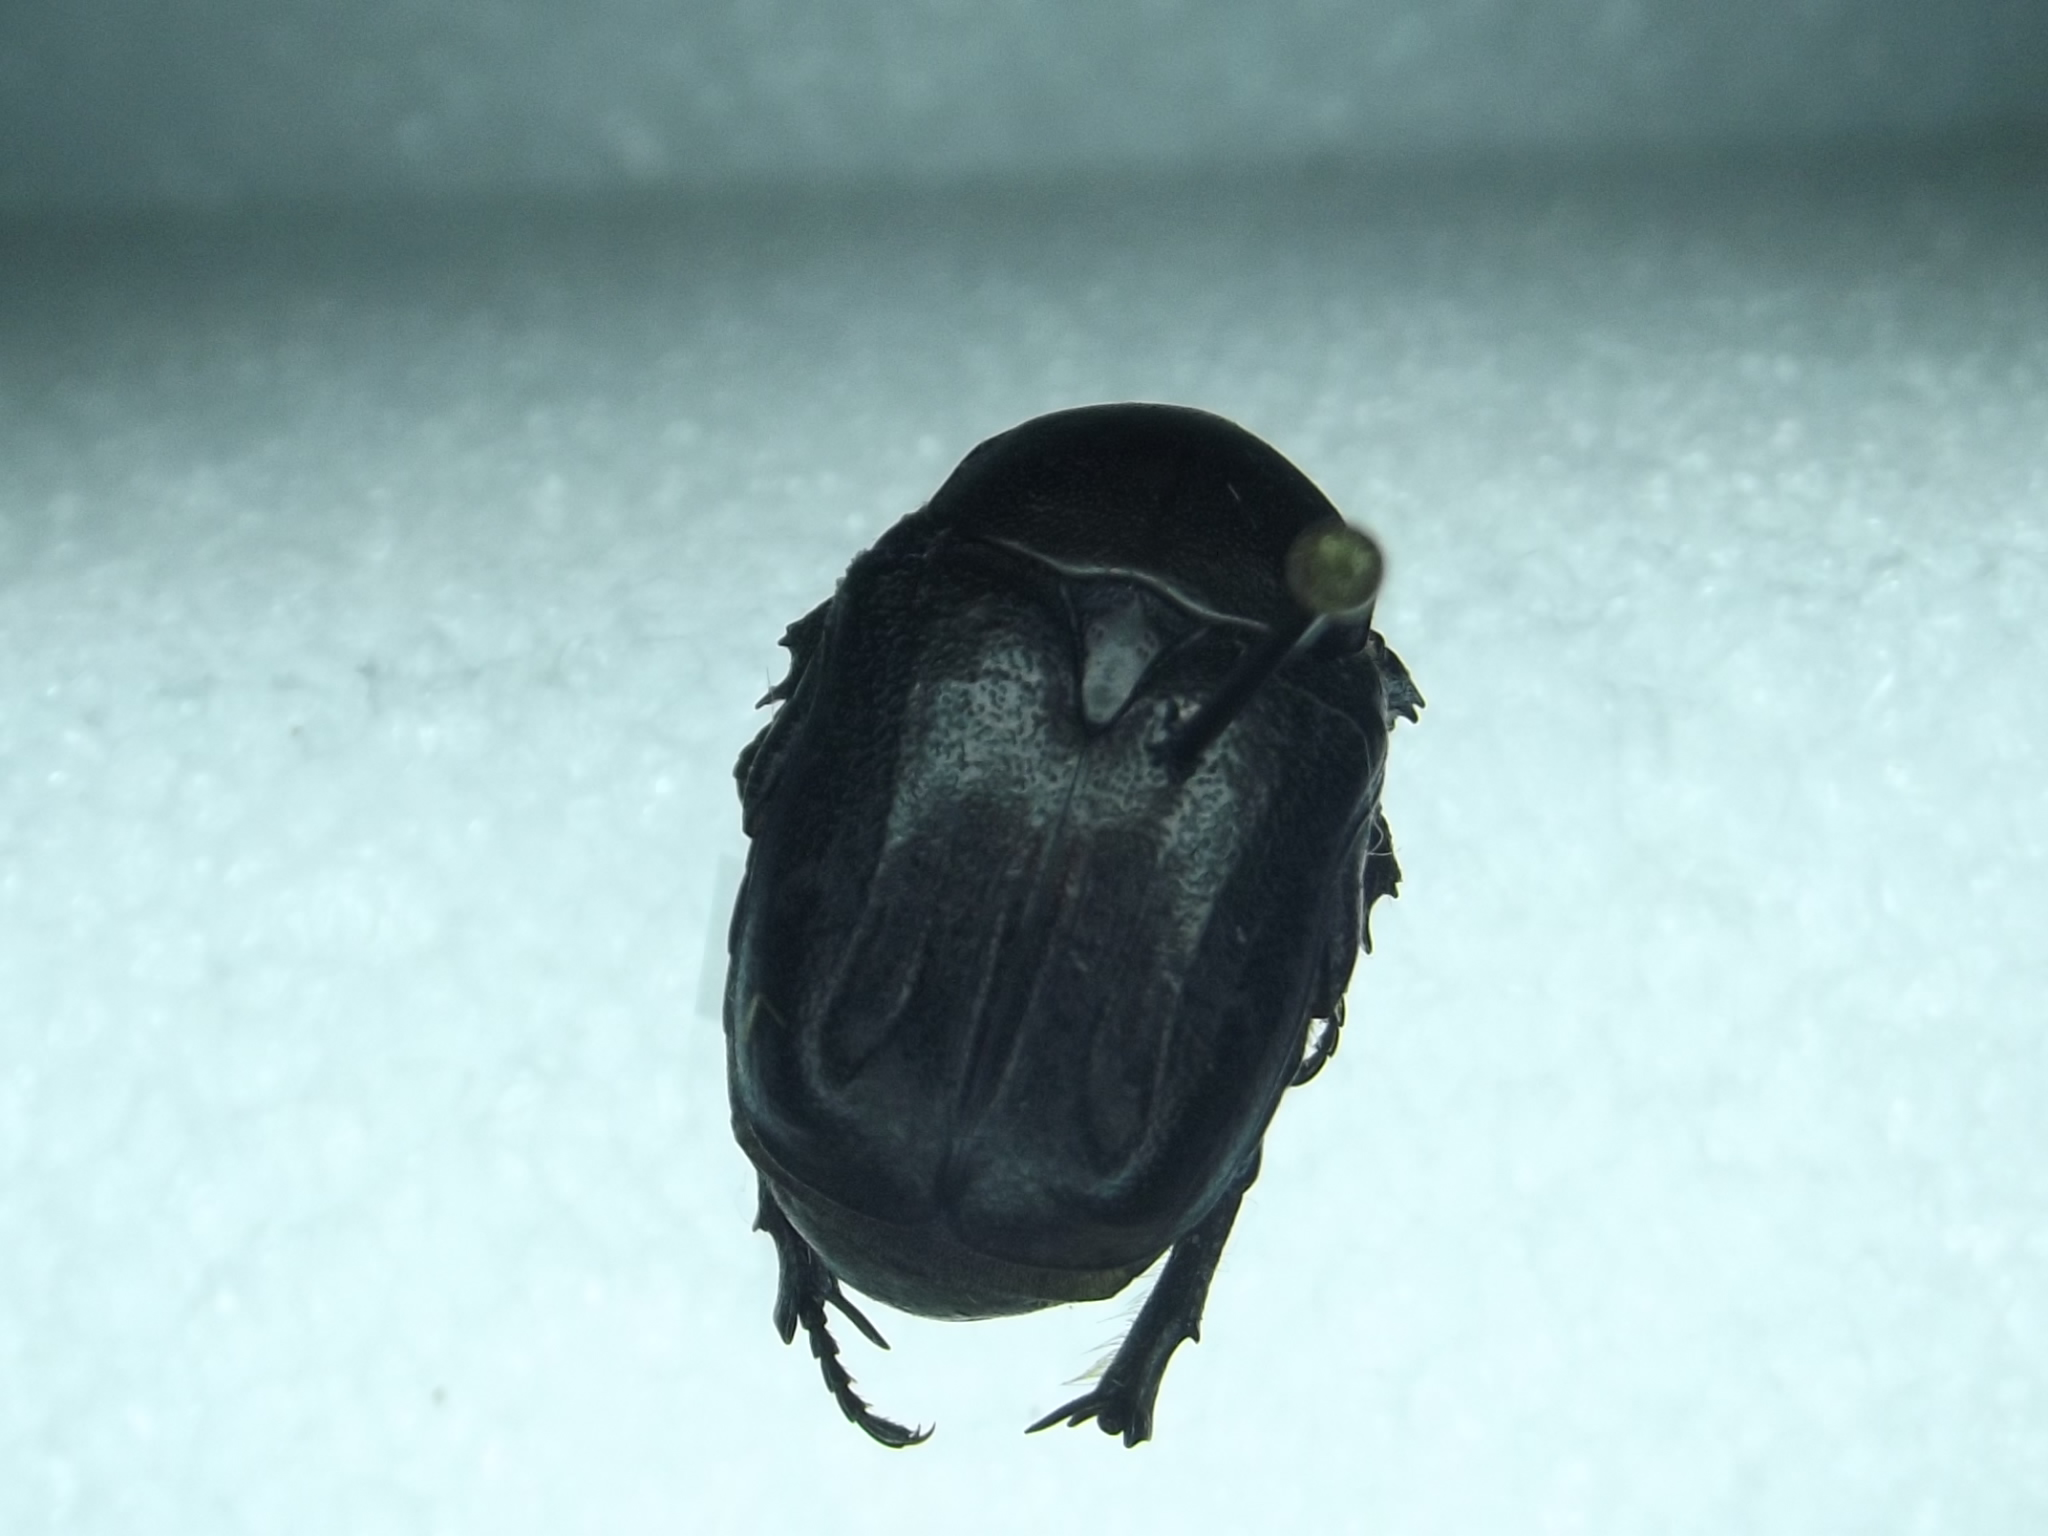Protaetia_vidua: (634, 399, 1496, 1459)
